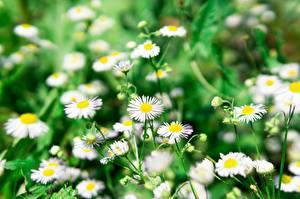chamomile: (11, 112, 65, 137), (127, 102, 173, 122), (31, 172, 84, 187), (233, 105, 269, 125), (151, 25, 191, 41), (160, 128, 196, 143), (71, 98, 98, 117)
